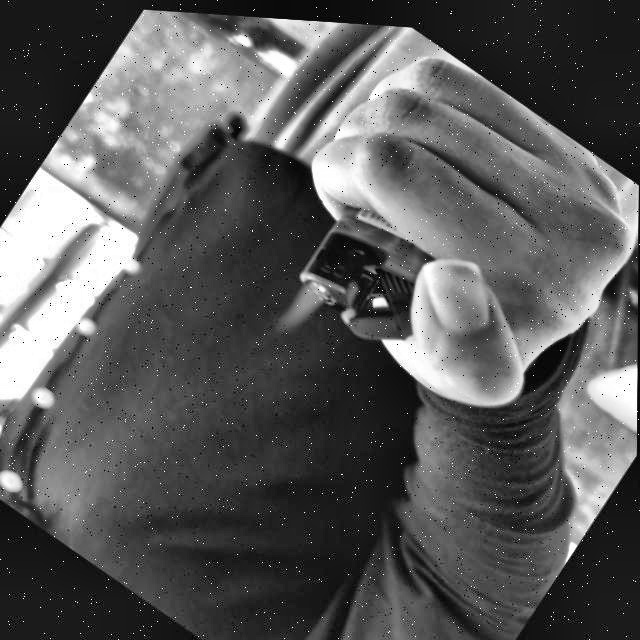Fire: (273, 268, 333, 342)
